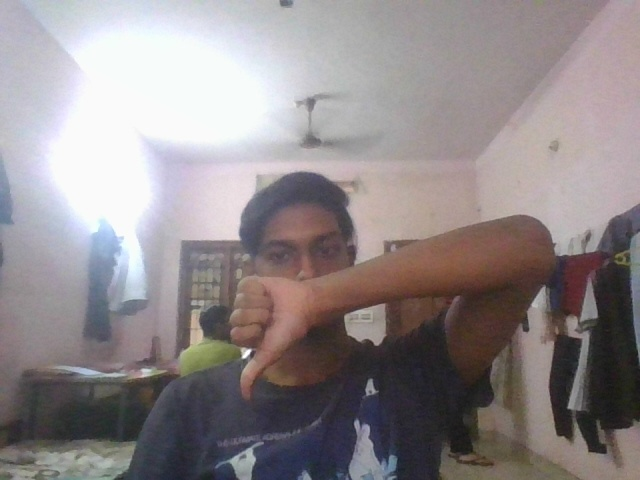thumbsdown: (225, 272, 329, 404)
